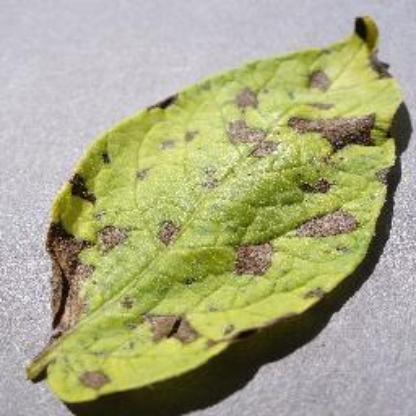Early-Blight: (24, 11, 411, 405)
